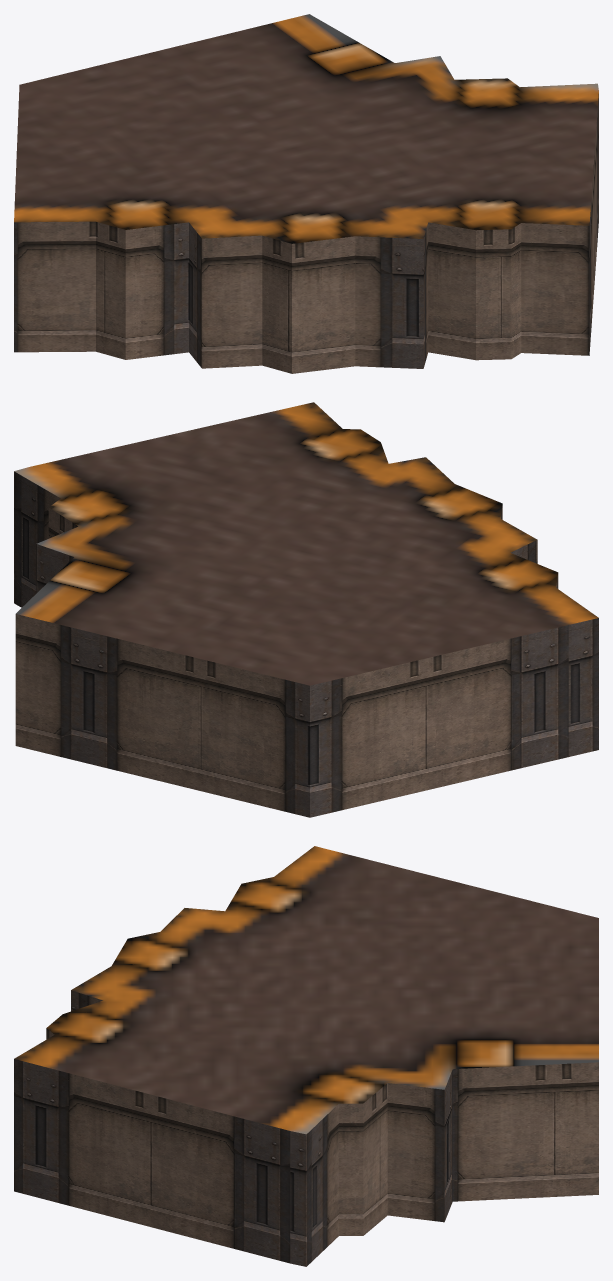
The model's file is heavy_roof37.glb.
The picture shows the model from 3 angles, top to bottom: view 1: azimuth 30°, elevation 25°; view 2: azimuth 150°, elevation 25°; view 3: azimuth 270°, elevation 25°; orthographic projection.
Visible parts, largest first — view 1: buildings/saxarba/heavy/heavy_roof37; view 2: buildings/saxarba/heavy/heavy_roof37; view 3: buildings/saxarba/heavy/heavy_roof37.
Part boxes in pixels (x1,y1,x2,y2): buildings/saxarba/heavy/heavy_roof37: [14, 14, 598, 373]; buildings/saxarba/heavy/heavy_roof37: [14, 402, 598, 817]; buildings/saxarba/heavy/heavy_roof37: [14, 846, 598, 1266].
Bounding box in the file's own units: 84 × 18 × 72.
